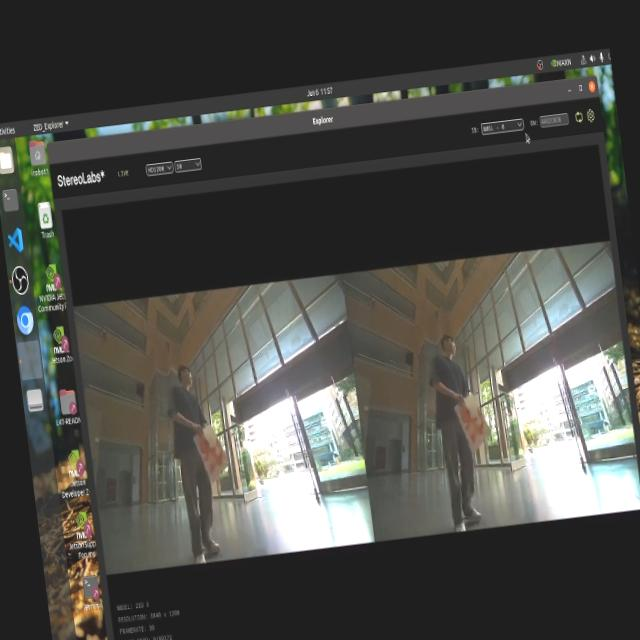red: (190, 428, 230, 486), (459, 392, 491, 441)
